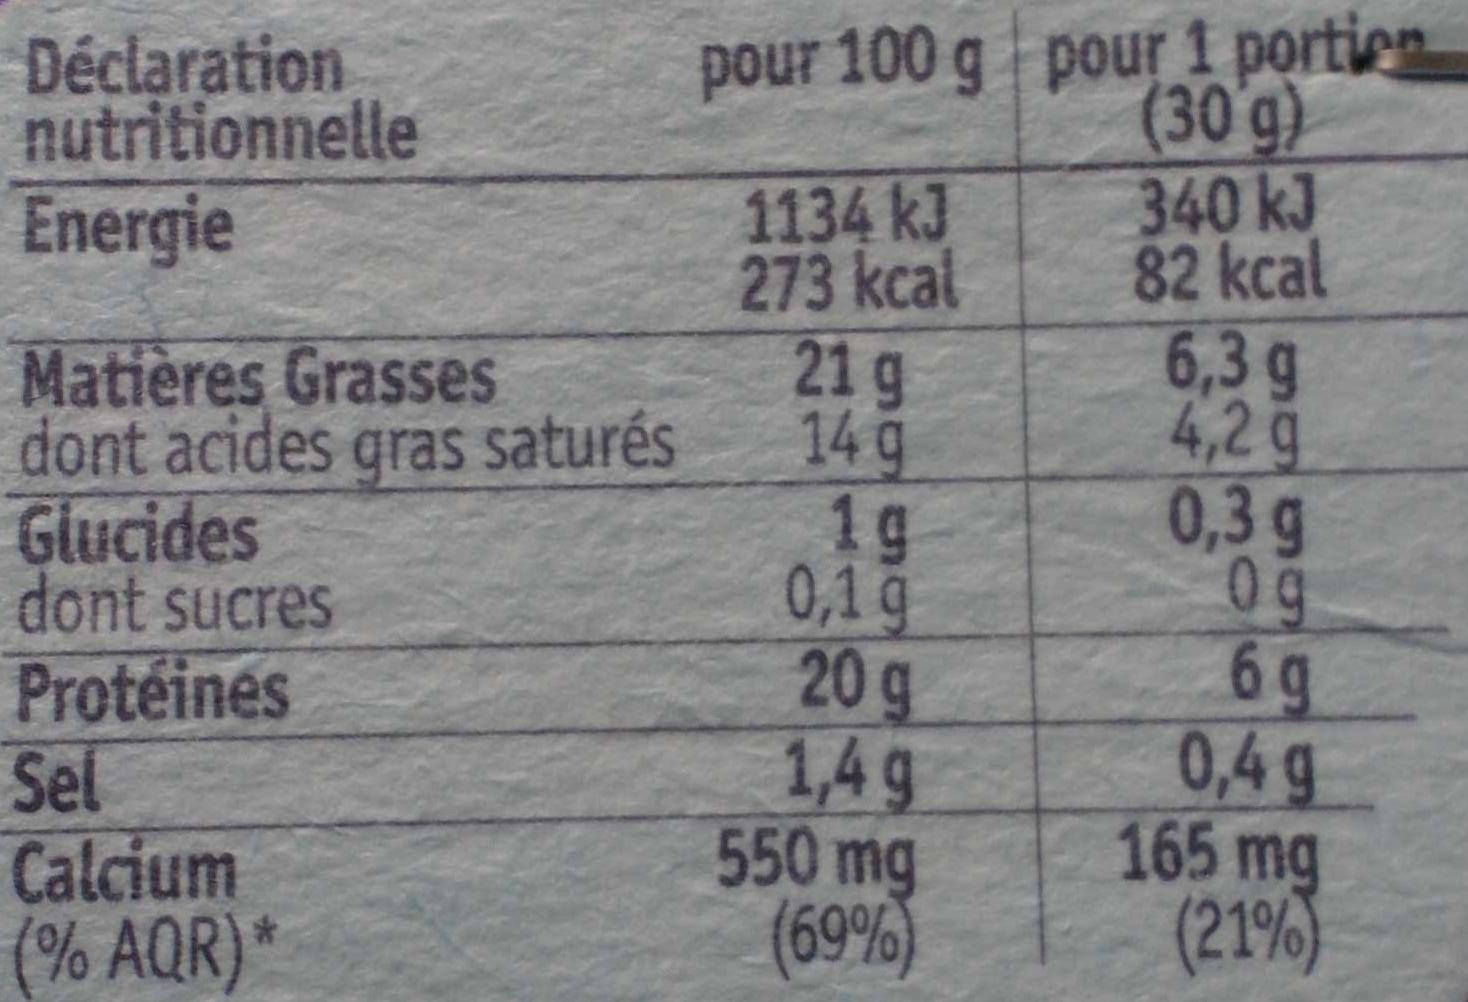column: (13, 33, 677, 996), (1042, 15, 1419, 970), (698, 26, 984, 981)
line: (25, 909, 1325, 989), (17, 408, 1308, 468), (20, 840, 1327, 895), (13, 750, 1312, 805), (18, 504, 1307, 559), (18, 661, 1312, 714), (25, 33, 1412, 83), (25, 98, 1297, 151), (25, 348, 1303, 398), (21, 258, 1330, 304), (20, 193, 1316, 239), (17, 576, 1302, 622)
table: (4, 1, 1422, 998)
